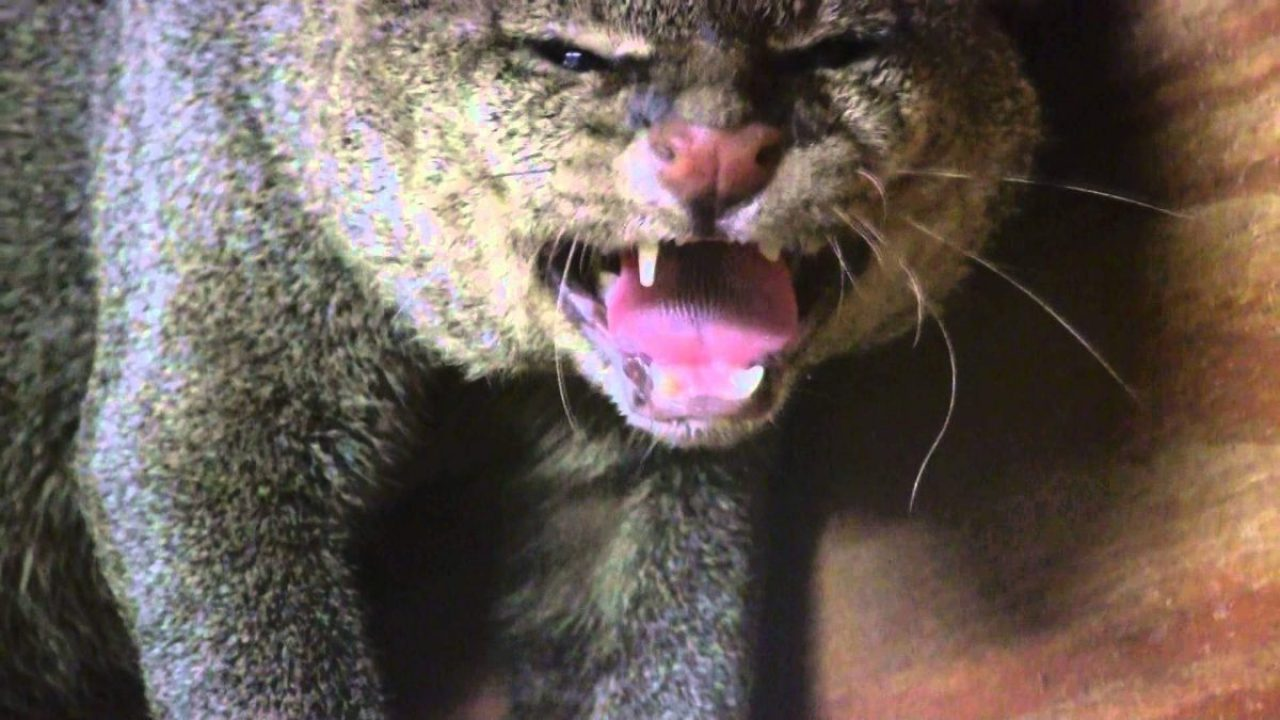Jaguarundi: (125, 5, 1054, 631)
